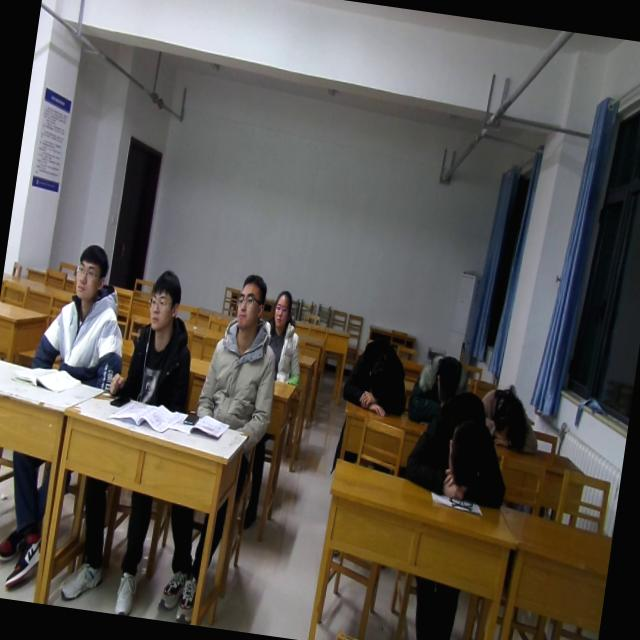bow: (400, 386, 520, 511), (339, 334, 417, 423), (472, 376, 548, 461), (406, 349, 476, 429)
lookup: (143, 264, 187, 340), (66, 235, 112, 307), (230, 265, 271, 336), (267, 284, 297, 334)
sit: (30, 237, 139, 391), (194, 267, 292, 433), (106, 260, 205, 410), (261, 286, 313, 388)
